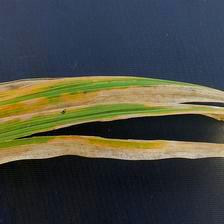2 BacterialBlight: (2, 75, 218, 171)
